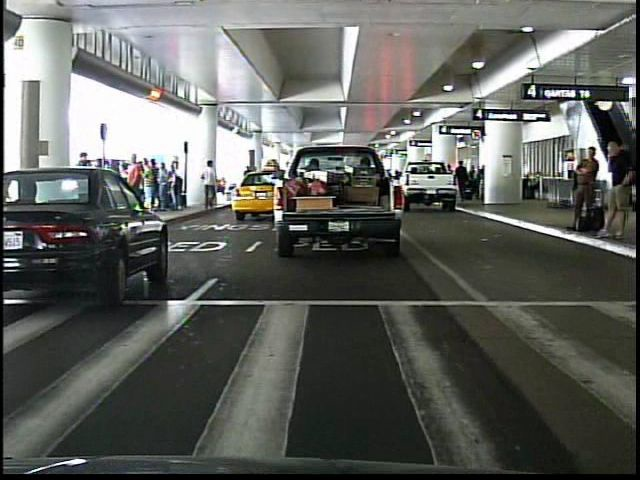person: (564, 135, 600, 240), (599, 136, 635, 240), (121, 153, 147, 222), (201, 160, 223, 212)
